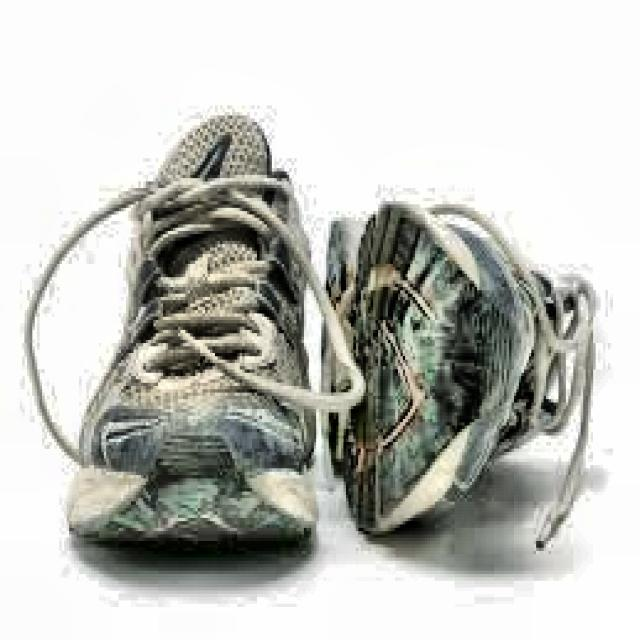shoes: (34, 110, 593, 572)
